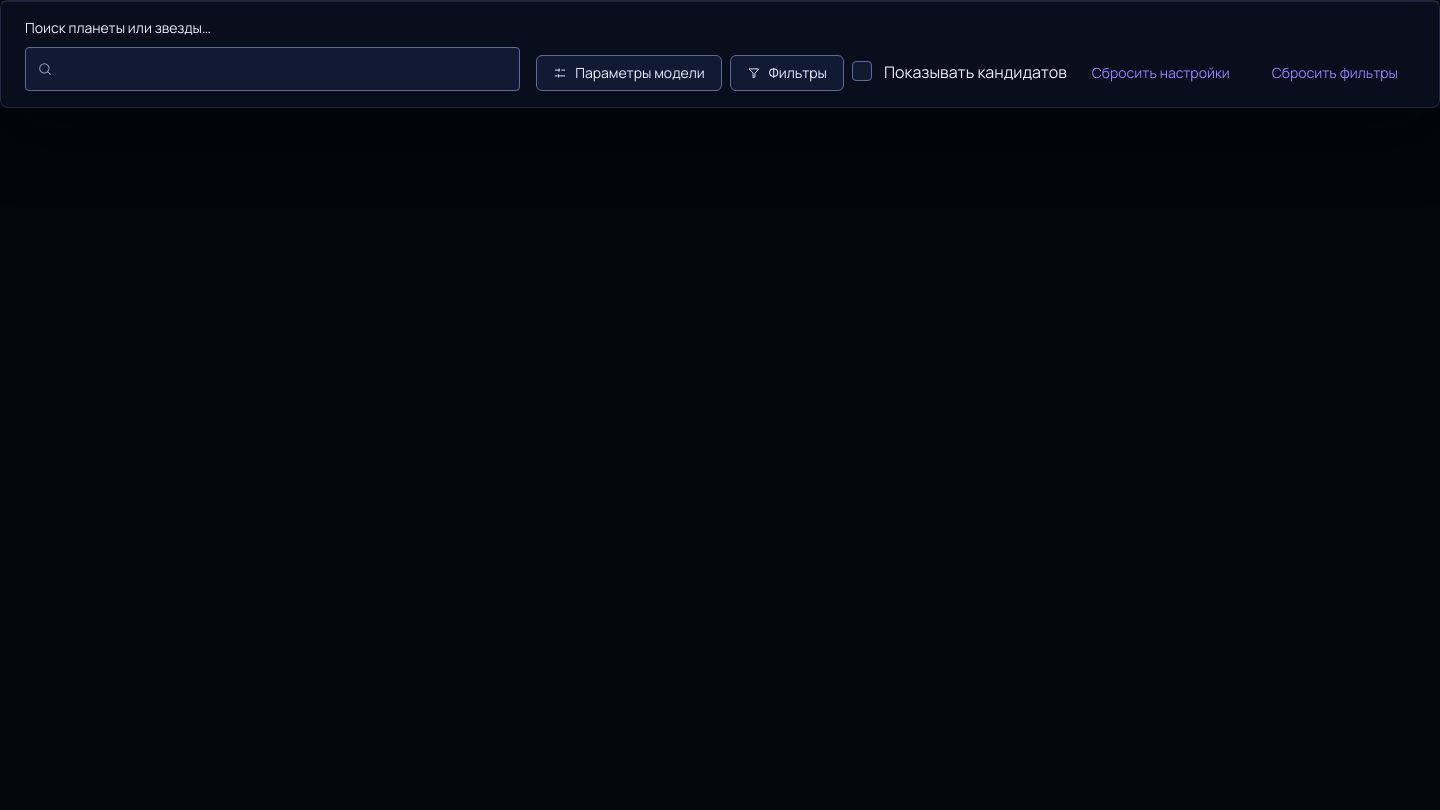
it: применение и бейдж › ошибка в поле блокирует применение и показывается под полем
The width and height of the screenshot is (1440, 810).
Click the button "Фильтры".
click(787, 73)  # box [730,55,844,91]
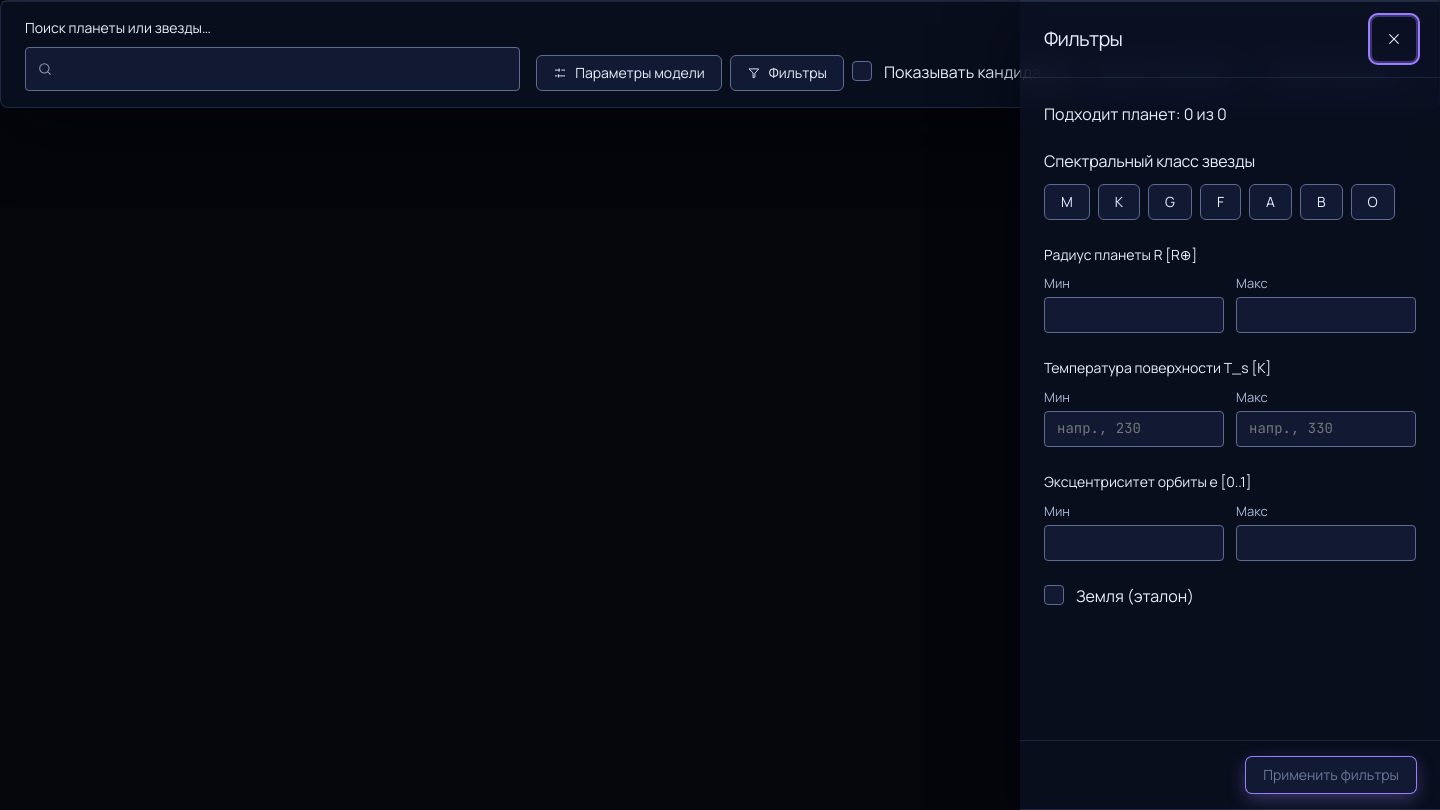
Type "abc" into the field labelled "Мин" below "Радиус планеты R [R⊕]".
click(1134, 315); type("abc")  # box [1044,297,1224,333]
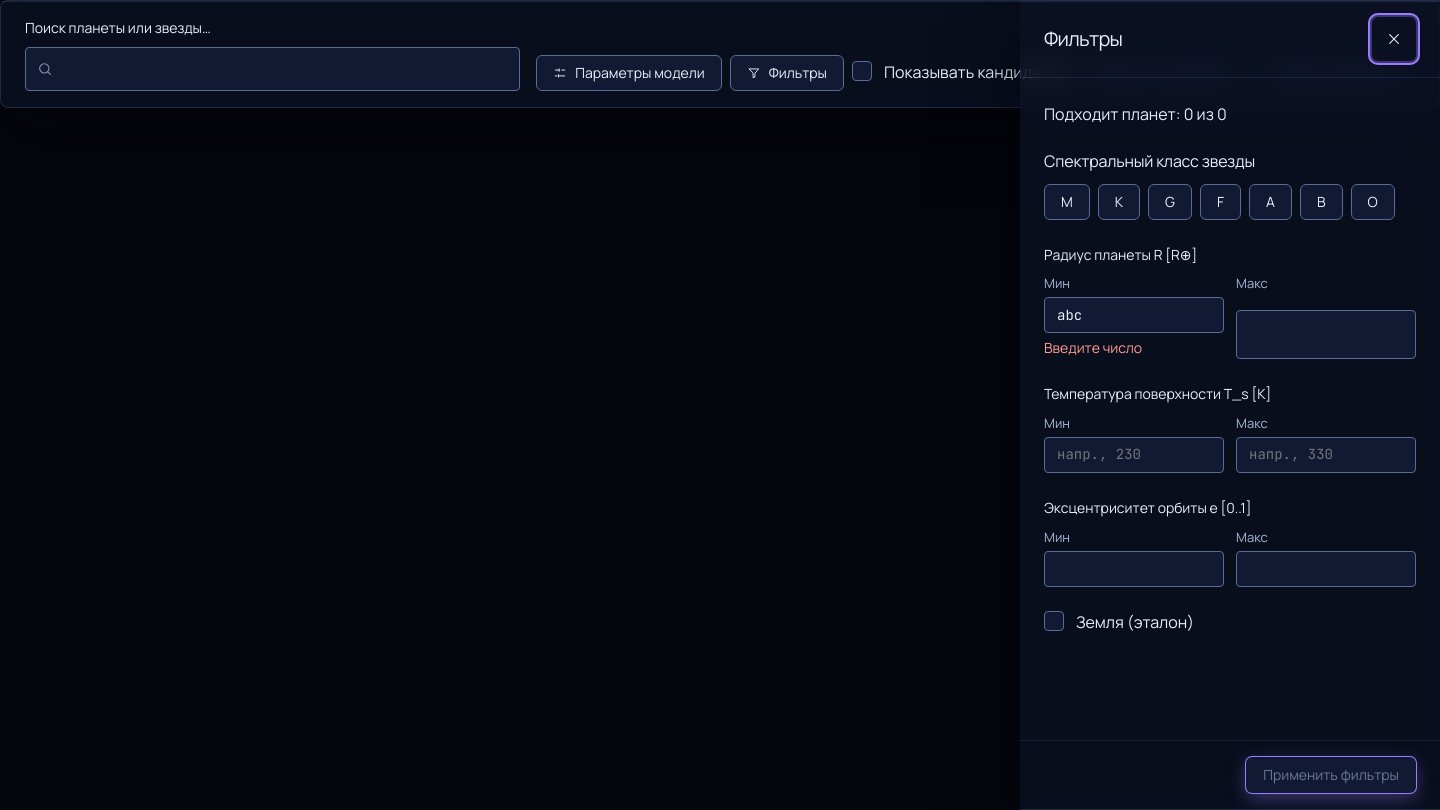
Result: the button "Применить фильтры" is disabled at [1246,757,1416,793]
Result: the text "Введите число" is shown at [1044,338,1142,357]
